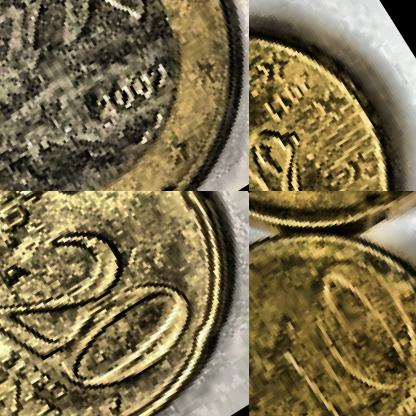coin: (0, 191, 248, 415), (0, 0, 248, 190), (249, 191, 415, 415), (249, 0, 415, 190)
